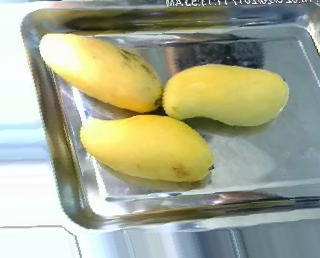Mango: (35, 29, 166, 123), (76, 109, 221, 191), (166, 53, 293, 132)
